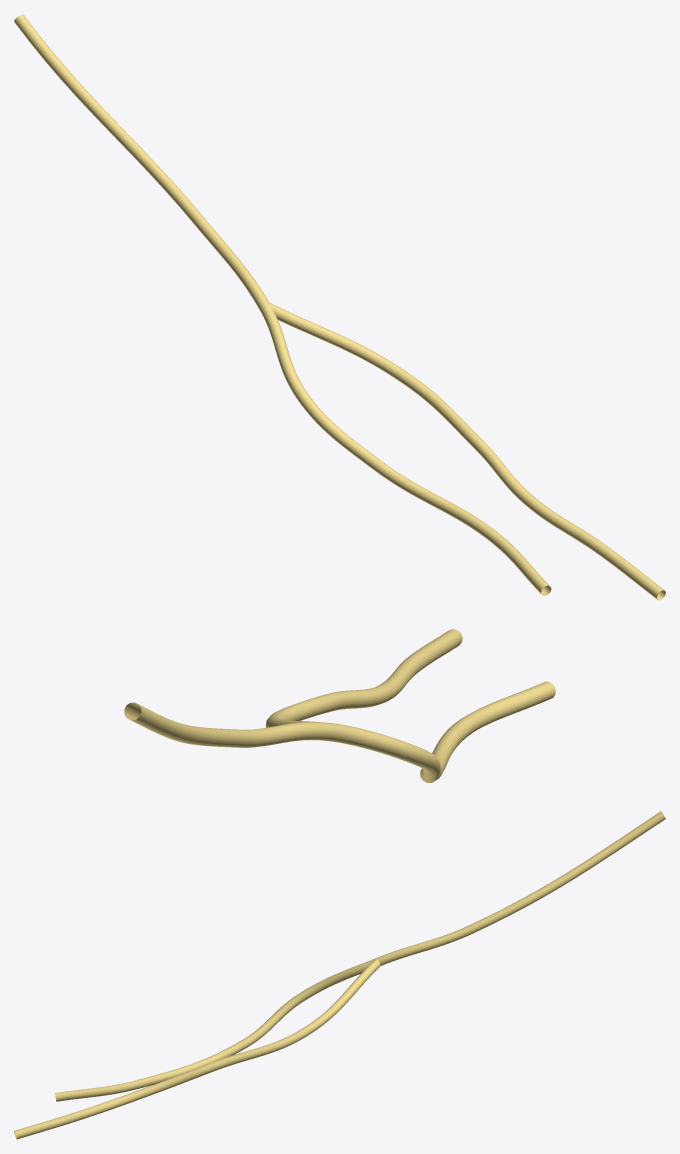
3 views of the same model, one above another, from view 1: azimuth 30°, elevation 25°; view 2: azimuth 150°, elevation 25°; view 3: azimuth 270°, elevation 25° (orthographic). The views are drawn at different scales.
Parts seen in each view (by area): view 1: ZA_c1934fcd3c2f1fb4; view 2: ZA_c1934fcd3c2f1fb4; view 3: ZA_c1934fcd3c2f1fb4.
Boxes of the visible parts, box(x1,y1,x2,y2) form: ZA_c1934fcd3c2f1fb4: box(14, 14, 665, 600); ZA_c1934fcd3c2f1fb4: box(124, 629, 555, 782); ZA_c1934fcd3c2f1fb4: box(14, 811, 665, 1139).
Bounding box in the file's own units: 0.0215 × 0.0298 × 0.071.
